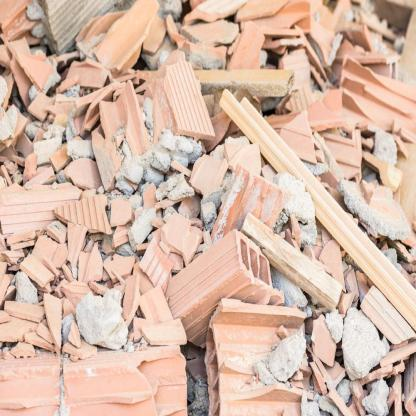brick: (1, 2, 304, 415), (222, 2, 415, 344), (72, 0, 292, 299), (299, 310, 415, 415)
